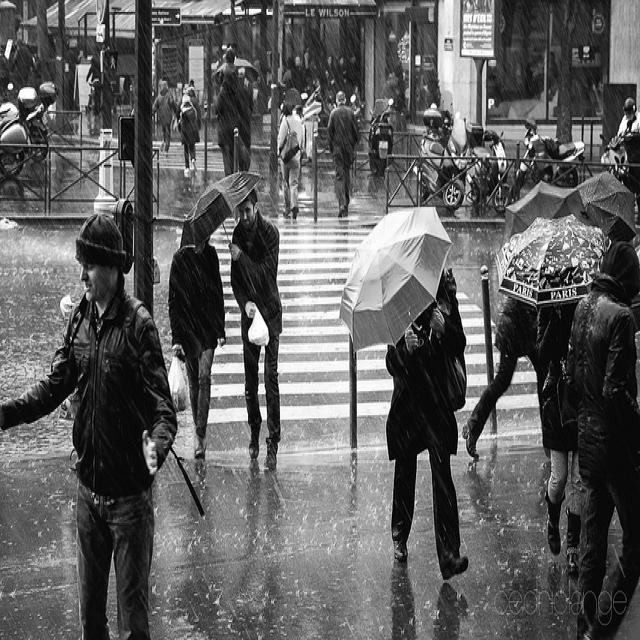motor: (410, 100, 474, 211), (511, 117, 585, 196), (0, 87, 45, 183), (467, 123, 513, 214), (369, 98, 396, 174), (597, 132, 631, 188)
